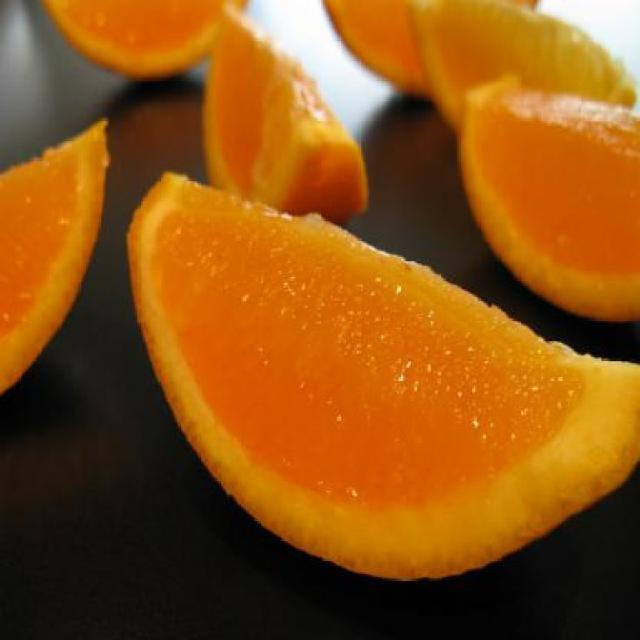Orange: (115, 172, 640, 585), (458, 77, 638, 323), (198, 8, 367, 209), (0, 114, 111, 394), (407, 3, 640, 136), (45, 0, 246, 83), (318, 0, 440, 100)
